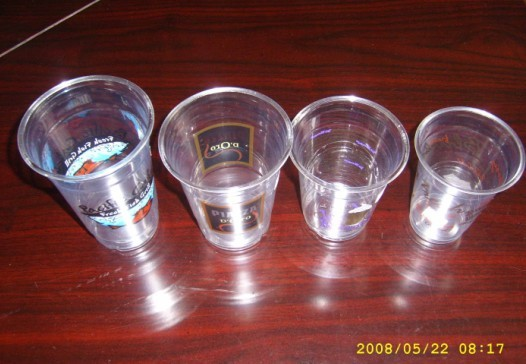plastic_bottle: (17, 73, 158, 256), (156, 84, 294, 255), (284, 90, 411, 245), (407, 103, 526, 249)
